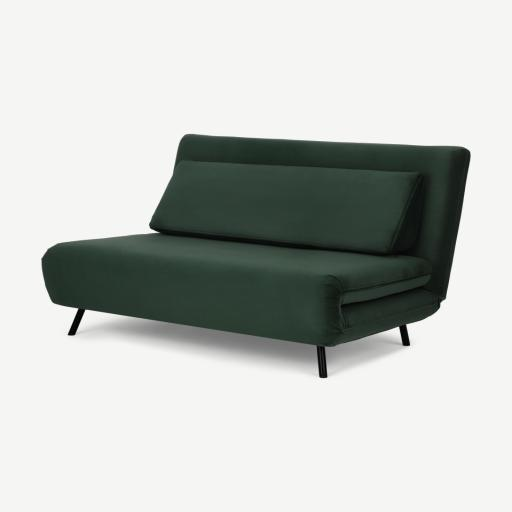back_cushion: (151, 156, 422, 254)
legs: (68, 309, 85, 335), (317, 346, 326, 378), (399, 325, 409, 346)
one-seater: (0, 0, 511, 512)
seat_cushion: (42, 234, 430, 346)
